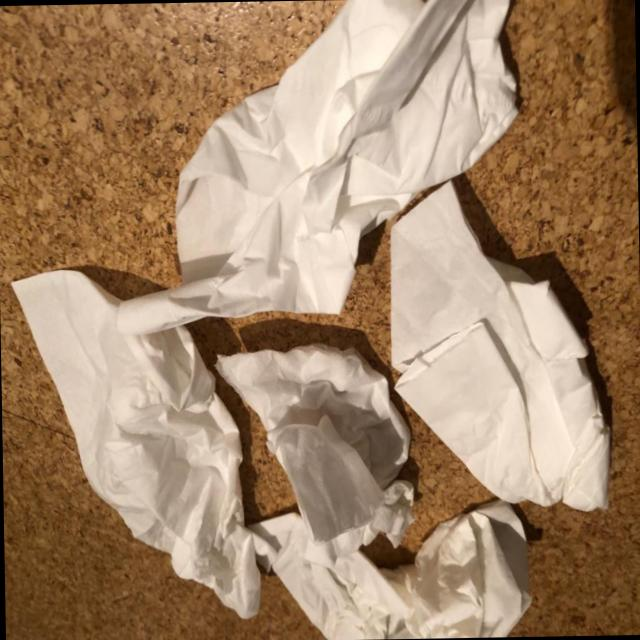organic waste: (110, 0, 526, 332), (9, 260, 260, 626), (386, 174, 617, 520), (241, 498, 532, 640), (213, 343, 410, 546)
